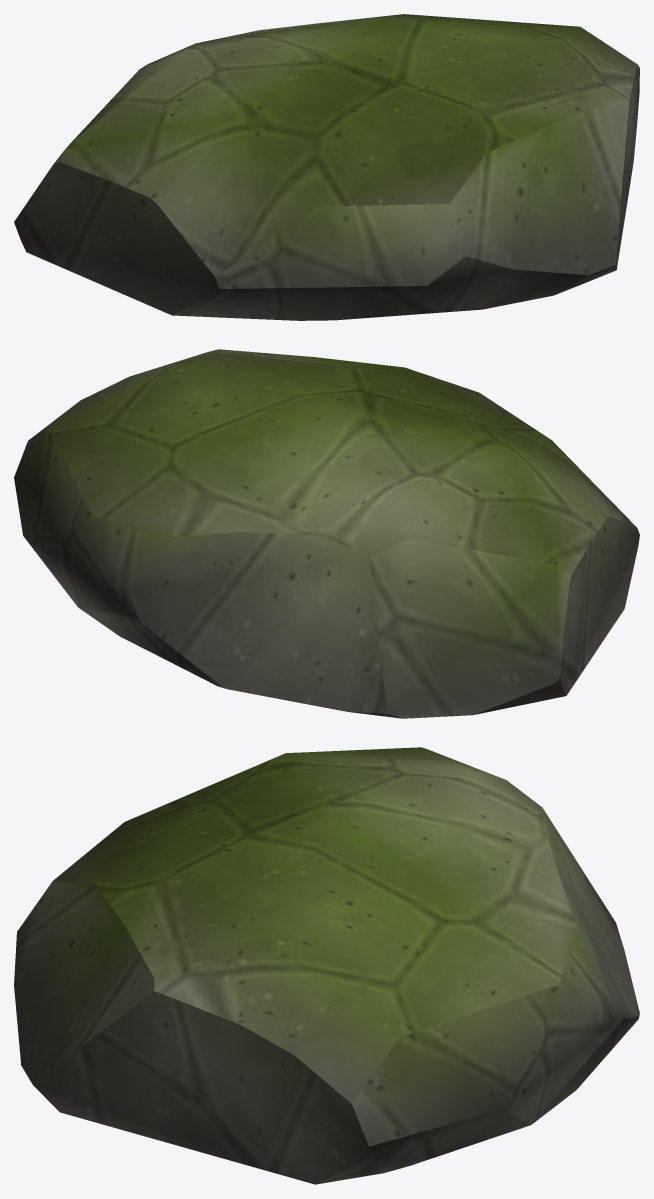
Rendered from rock_field_b.glb.
The picture shows the model from 3 angles, top to bottom: view 1: azimuth 30°, elevation 25°; view 2: azimuth 150°, elevation 25°; view 3: azimuth 270°, elevation 25°; orthographic projection. The views are drawn at different scales.
Parts seen in each view (by area): view 1: rock_field_b; view 2: rock_field_b; view 3: rock_field_b.
Part boxes in pixels (x1,y1,x2,y2): rock_field_b: (14, 14, 639, 320); rock_field_b: (14, 349, 639, 718); rock_field_b: (14, 747, 639, 1184).
Size of the model in its own units: 1.4 by 0.4047 by 1.1.
Materials: 1 (1 with a texture image).
